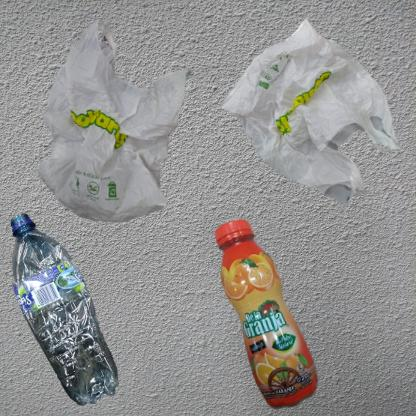bolsa: (10, 10, 248, 275), (213, 10, 408, 216)
botella: (213, 213, 326, 416), (10, 213, 119, 406)
